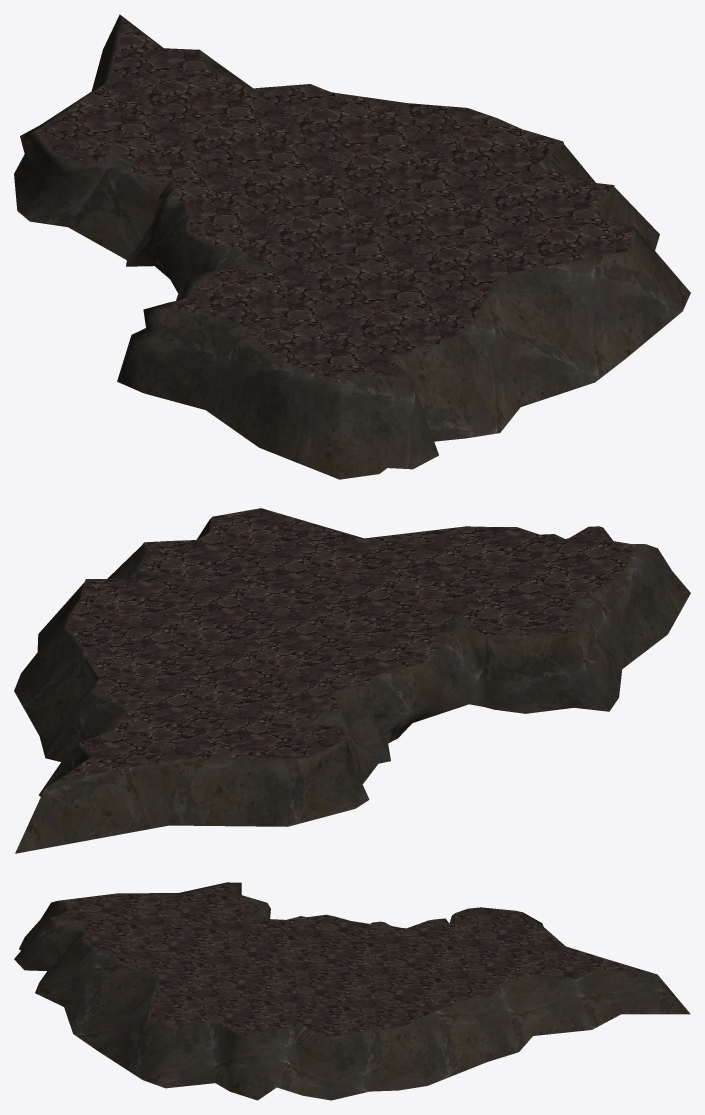
Rendered from SM_Ground_Island_02.fbx.
3 renders of one model, top to bottom at view 1: azimuth 30°, elevation 25°; view 2: azimuth 150°, elevation 25°; view 3: azimuth 270°, elevation 25°, orthographic. The views are drawn at different scales.
Visible parts, largest first — view 1: SM_Ground_Islands_02; view 2: SM_Ground_Islands_02; view 3: SM_Ground_Islands_02.
Boxes of the visible parts, x1,y1,x2,y2 form: SM_Ground_Islands_02: (14, 14, 690, 479); SM_Ground_Islands_02: (14, 508, 690, 853); SM_Ground_Islands_02: (14, 882, 690, 1100).
Size of the model in its own units: 25.3 by 2.97 by 39.06.
2 materials, 2 textured.
